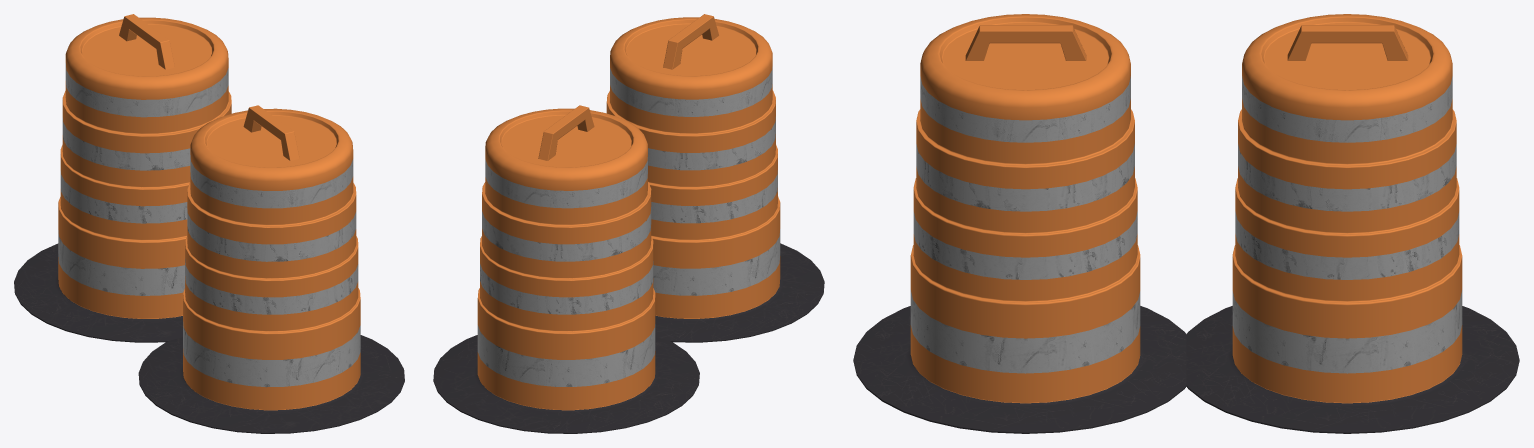
File: Barrier2.fbx
3 views of the same model, side by side, from view 1: azimuth 30°, elevation 25°; view 2: azimuth 150°, elevation 25°; view 3: azimuth 270°, elevation 25° (orthographic). The views are drawn at different scales.
Visible parts, largest first — view 1: Drum.001, Drum; view 2: Drum, Drum.001; view 3: Drum, Drum.001.
Part boxes in pixels (<box>): Drum.001: <box>138,105,404,433</box>; Drum: <box>14,14,231,342</box>; Drum: <box>433,105,699,433</box>; Drum.001: <box>606,14,824,342</box>; Drum: <box>1186,14,1519,433</box>; Drum.001: <box>853,14,1186,433</box>.
Size of the model in its own units: 99.51 by 106 by 192.
Materials: 6 (4 with a texture image).
